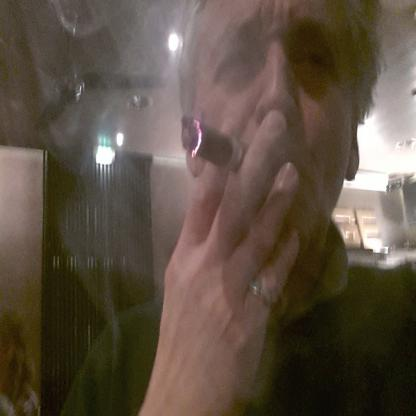smoking: (182, 115, 264, 176)
